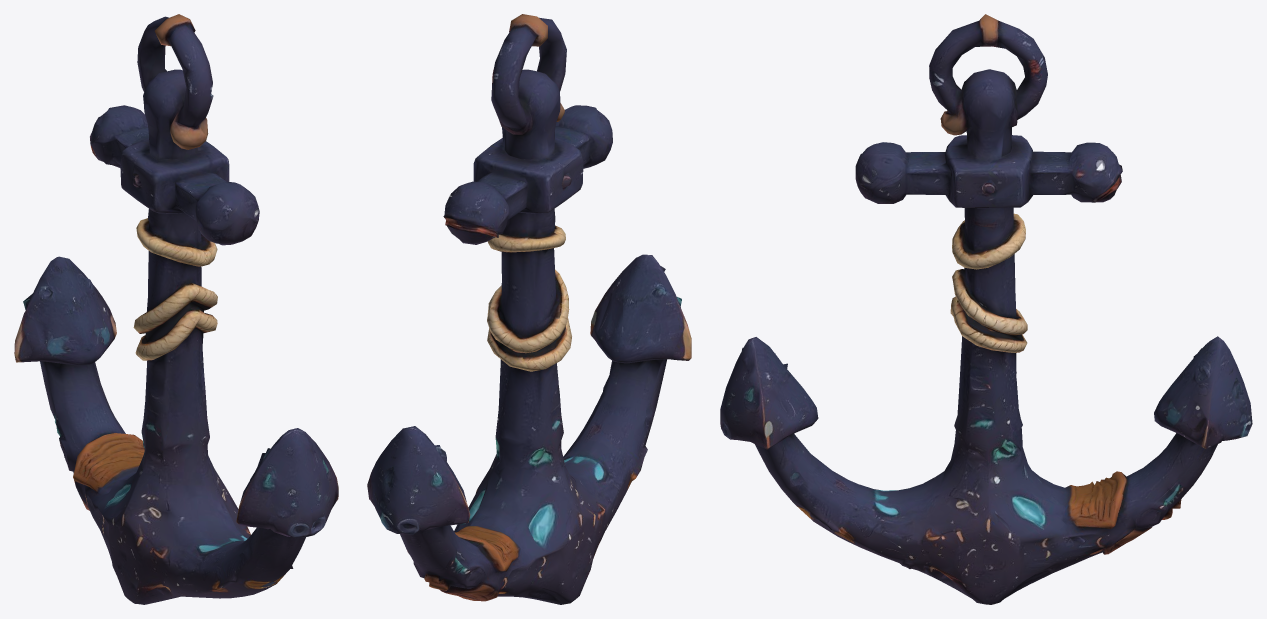
File: lib-anchor.glb
3 views of the same model, side by side, from view 1: azimuth 30°, elevation 25°; view 2: azimuth 150°, elevation 25°; view 3: azimuth 270°, elevation 25° (orthographic).
Visible parts, largest first — view 1: tripo_node_3a9c128f-e5d5-428e-b80e-107d449bdb44; view 2: tripo_node_3a9c128f-e5d5-428e-b80e-107d449bdb44; view 3: tripo_node_3a9c128f-e5d5-428e-b80e-107d449bdb44.
Boxes of the visible parts, <box> form: tripo_node_3a9c128f-e5d5-428e-b80e-107d449bdb44: <box>14,14,338,604</box>; tripo_node_3a9c128f-e5d5-428e-b80e-107d449bdb44: <box>367,14,691,604</box>; tripo_node_3a9c128f-e5d5-428e-b80e-107d449bdb44: <box>720,14,1252,604</box>.
Bounding box in the file's own units: 0.2013 × 1 × 0.8466.
Materials: 1 (1 with a texture image).
